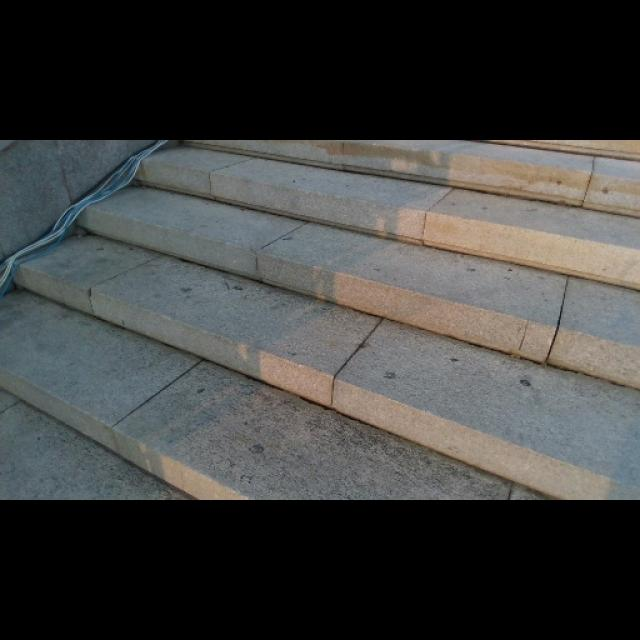Stairs: (0, 138, 639, 500)
